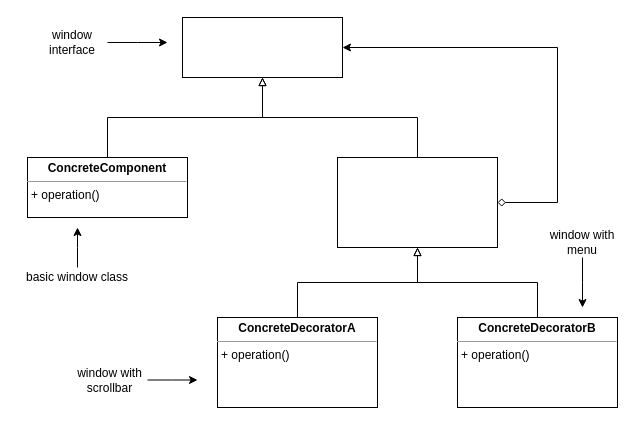
This 635x425 diagram has some shape labels left out. The box of each missing label's shape, as (x1, y1, x2, y2) in pixels:
Component + operation(): (182, 16, 342, 78)
Decorator - component + operation(): (336, 156, 498, 248)
